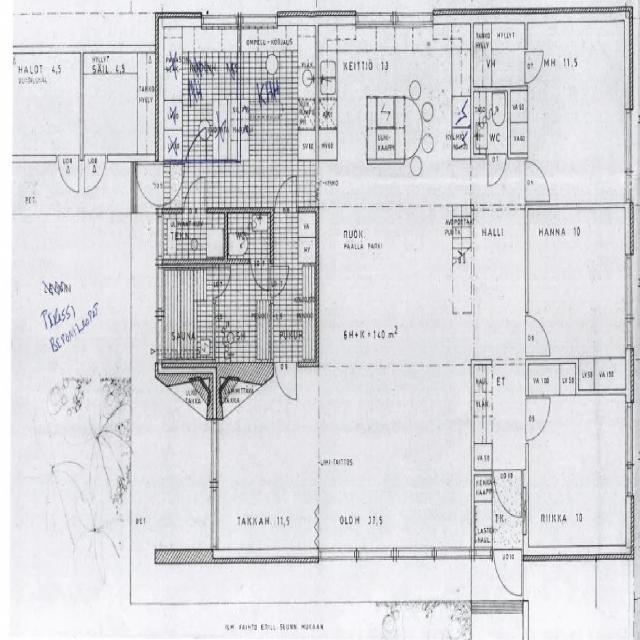door: (494, 548, 522, 610), (494, 469, 522, 523), (155, 164, 188, 206), (130, 164, 163, 206), (525, 398, 553, 441), (526, 316, 552, 356), (526, 161, 552, 201), (84, 155, 106, 198), (275, 170, 297, 212), (184, 171, 205, 212), (58, 155, 78, 198), (186, 122, 207, 162), (276, 364, 296, 404), (488, 153, 507, 190), (251, 259, 269, 295), (270, 265, 290, 296), (526, 52, 546, 82), (213, 268, 231, 296)
